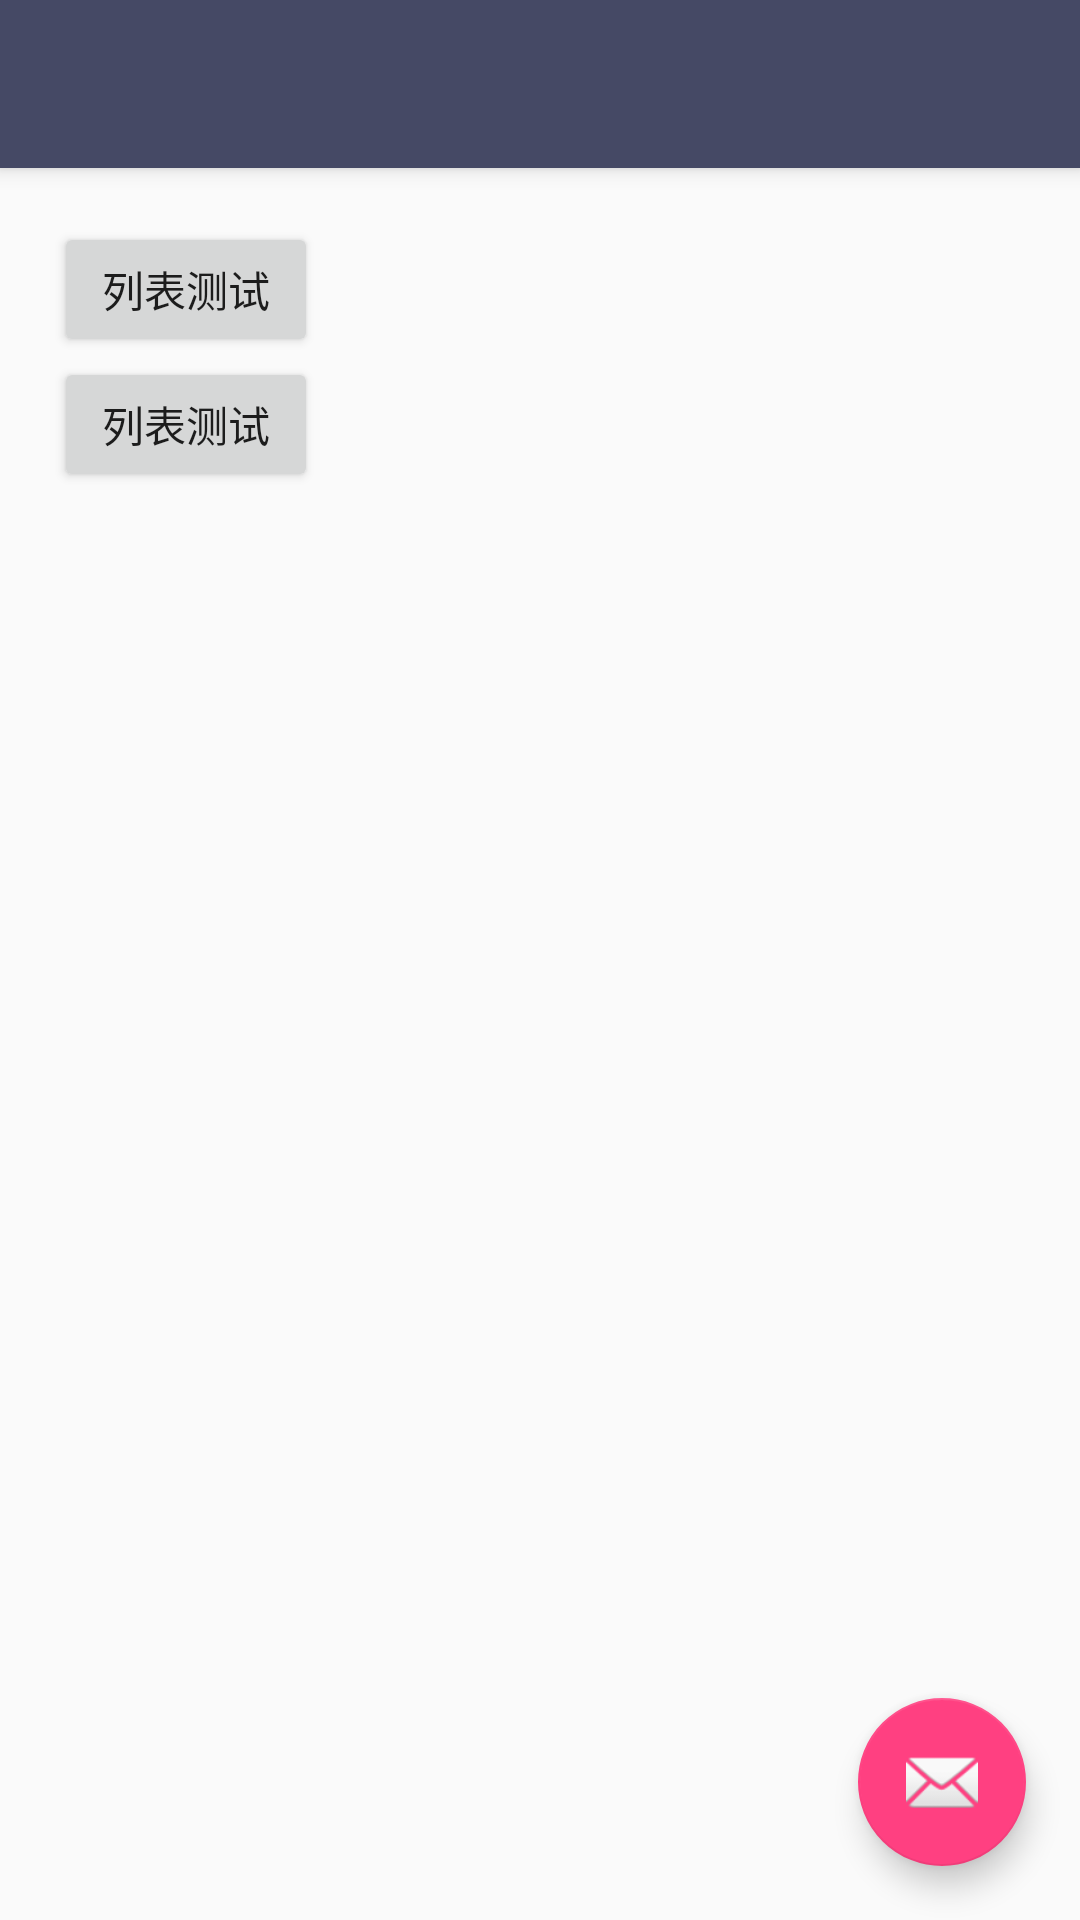

Named icons in this screenshot (1080×1920) and their bounding boxes, [left=x1, top=y1, right=x2, bottom=y2]:
email: [left=858, top=1698, right=1026, bottom=1866]
